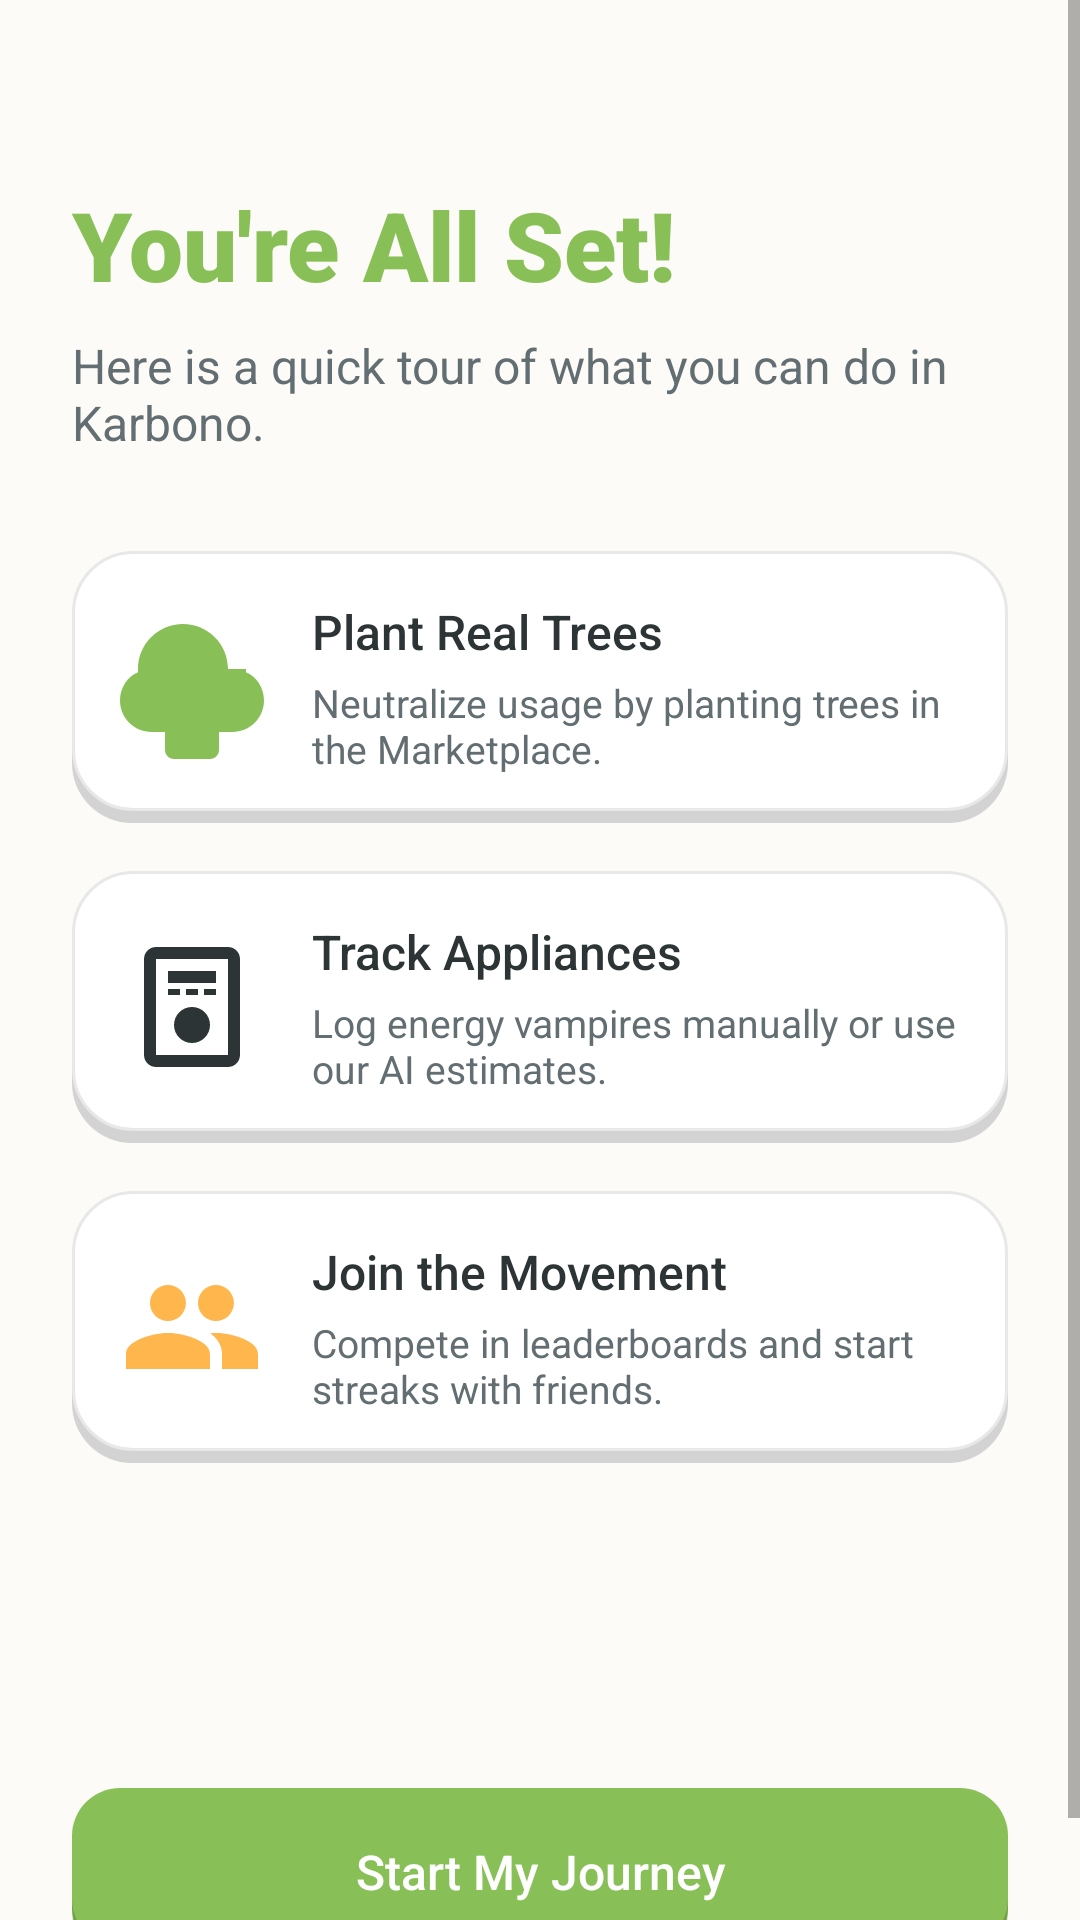

Icons on this 1080 × 1920 Android screen, each with its box as (x1, y1, x2, y2):
community: (126, 1285, 258, 1369)
